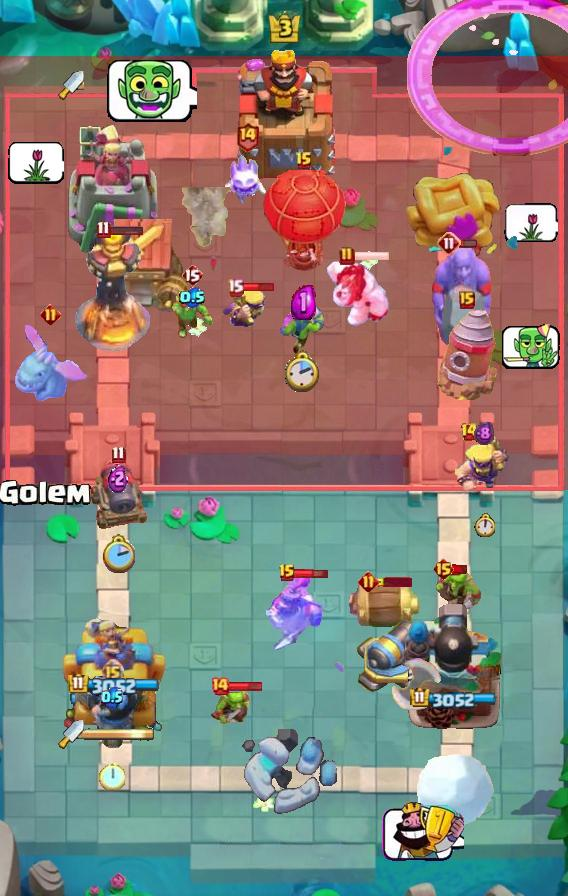archer-queen: (429, 245, 495, 357)
arrows: (455, 428, 513, 494), (222, 287, 268, 329)
bar: (67, 122, 161, 256), (61, 615, 166, 731)
cannon-cart: (262, 170, 346, 272)
electro-dragon: (74, 226, 152, 354)
electro-spirit: (291, 285, 316, 320), (108, 463, 128, 493), (178, 287, 205, 308), (474, 421, 494, 447), (101, 686, 123, 708)
electro-wizard: (10, 321, 90, 403)
elixir: (285, 350, 321, 394), (101, 535, 135, 574), (99, 761, 125, 790), (474, 513, 495, 537)
elixir-golem-big: (266, 571, 332, 651)
emote: (295, 567, 330, 581), (354, 250, 391, 262), (108, 224, 144, 236), (240, 281, 275, 293), (229, 680, 264, 692), (376, 577, 412, 587), (459, 238, 478, 249), (451, 565, 469, 576)
fisherman: (181, 187, 234, 253)
giant-snowball: (170, 291, 214, 339)
inferno-dragon: (84, 671, 140, 751)
king-tower: (229, 43, 339, 181)
king-tower-bar: (84, 727, 156, 741)
knight-evolution: (408, 0, 568, 156)
magic-archer: (437, 307, 497, 401)
mirror: (225, 151, 269, 205)
rage: (325, 260, 391, 328)
royal-giant: (390, 657, 458, 711)
royal-giant-evolution: (89, 460, 147, 530)
royal-recruit: (354, 614, 428, 700)
selected: (68, 672, 160, 696), (411, 687, 498, 709)
skeleton: (104, 56, 197, 126), (380, 800, 464, 864), (502, 320, 563, 373), (8, 141, 64, 184), (504, 203, 558, 242)
sparky: (102, 218, 188, 316)
text: (236, 121, 261, 152), (437, 231, 461, 255), (432, 557, 455, 581), (100, 658, 123, 682), (181, 263, 203, 287), (39, 303, 60, 324), (357, 572, 378, 593), (210, 676, 230, 696), (461, 422, 480, 442), (295, 151, 313, 171), (278, 563, 296, 583), (227, 279, 245, 298), (339, 246, 355, 266), (459, 291, 475, 309), (97, 220, 112, 239), (110, 444, 125, 463)
the-log: (345, 581, 421, 631)
tower-bar: (403, 601, 503, 731)
wall-breaker: (415, 750, 497, 829)
zap: (280, 300, 326, 356), (435, 569, 483, 615), (210, 684, 254, 726)
